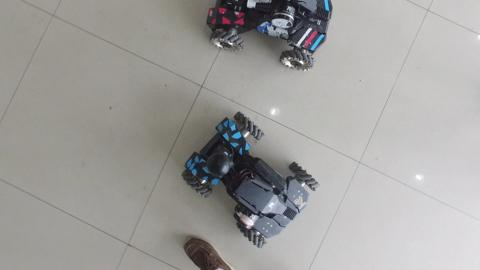chariot: (173, 108, 327, 250), (202, 1, 344, 75)
